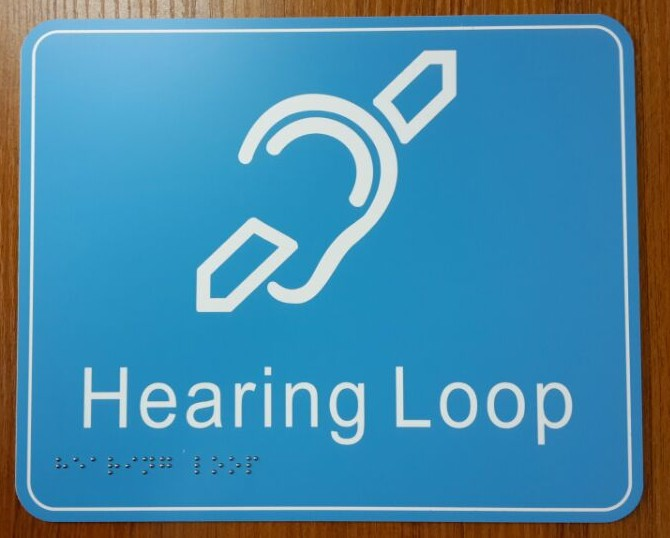Braille: (50, 452, 71, 480), (243, 453, 263, 478), (70, 452, 87, 480), (157, 453, 174, 481), (121, 454, 139, 478), (210, 453, 227, 477), (88, 453, 103, 480), (107, 453, 123, 478), (141, 455, 157, 478), (193, 454, 209, 477), (228, 453, 242, 478)
